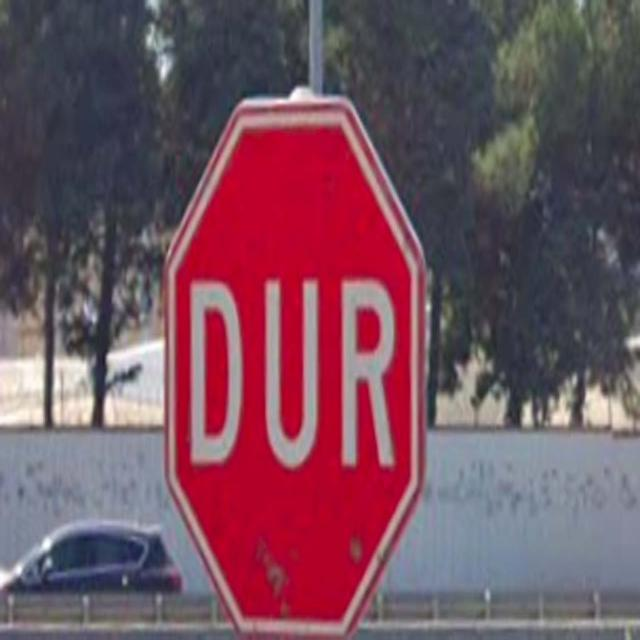dur: (160, 93, 429, 640)
